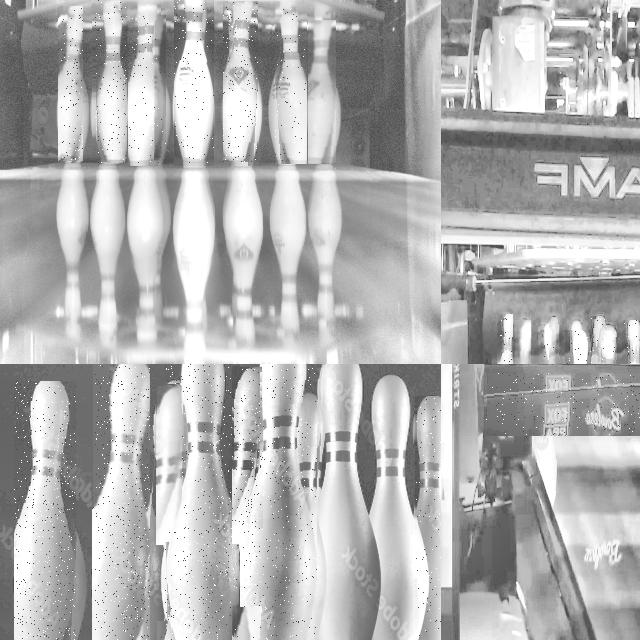bowling-pins: (242, 364, 317, 640), (165, 364, 239, 640), (316, 364, 380, 640), (14, 381, 76, 640), (369, 374, 427, 640), (95, 364, 150, 640), (174, 0, 214, 164), (416, 397, 441, 640), (223, 2, 258, 163), (128, 5, 161, 163), (275, 2, 307, 163), (95, 0, 126, 164), (233, 368, 260, 525), (308, 21, 336, 161), (158, 387, 182, 531), (61, 7, 83, 160), (300, 391, 324, 506), (155, 16, 165, 157), (591, 316, 604, 364), (517, 321, 530, 364), (500, 315, 511, 364), (601, 326, 614, 364), (541, 324, 553, 364), (626, 321, 637, 364), (235, 608, 248, 640), (549, 318, 557, 364), (229, 18, 233, 63)
sweep board: (486, 380, 640, 435)
